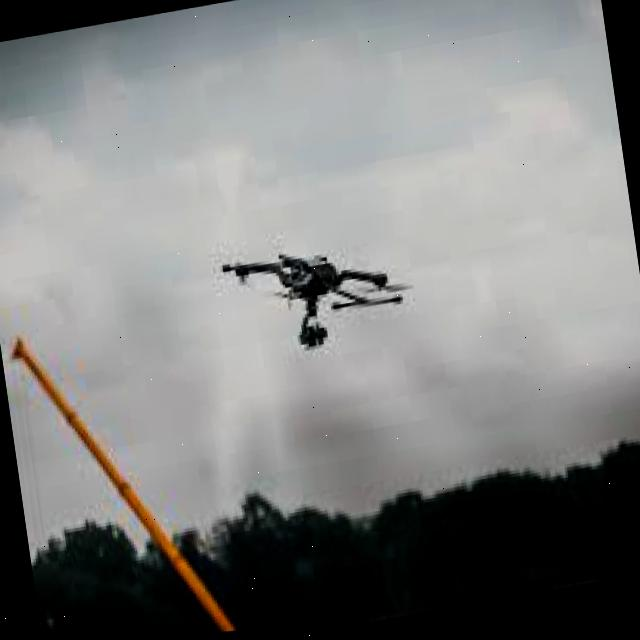drone: (208, 203, 422, 378)
